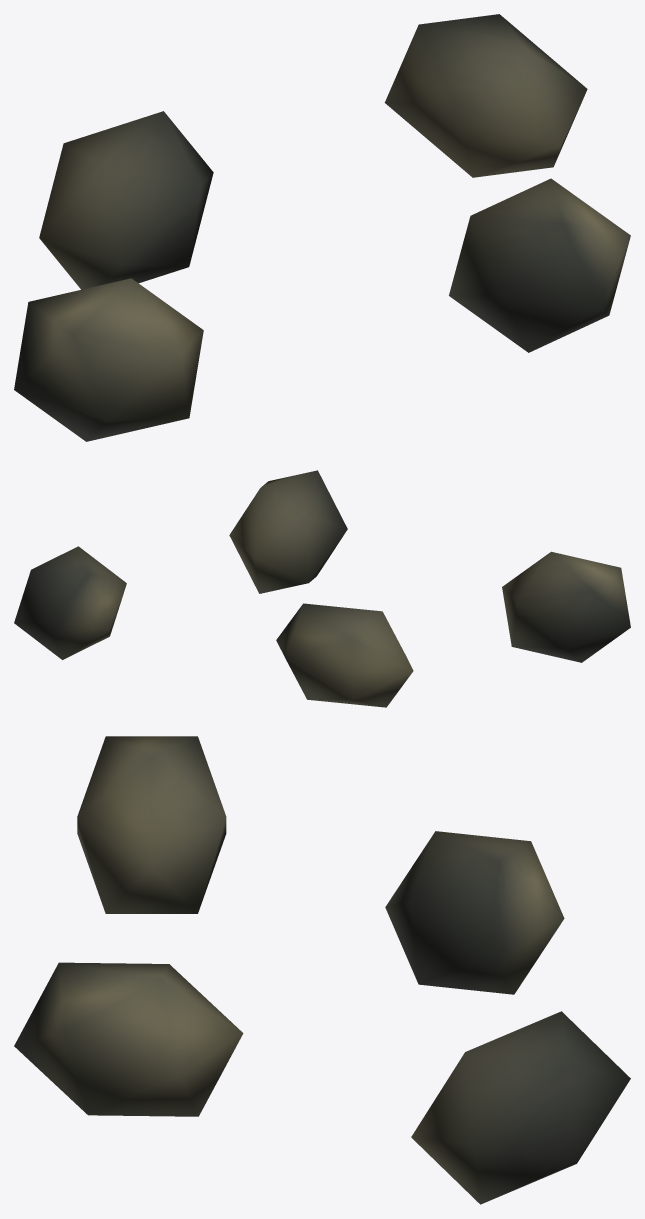
File: NP_Onion_Seed.fbx
The picture shows the model from 3 angles, top to bottom: view 1: azimuth 30°, elevation 25°; view 2: azimuth 150°, elevation 25°; view 3: azimuth 270°, elevation 25°; orthographic projection. The views are drawn at different scales.
Parts seen in each view (by area): view 1: NP_Onion_Seed; view 2: NP_Onion_Seed; view 3: NP_Onion_Seed.
Part boxes in pixels (x1=…): NP_Onion_Seed: x1=14, y1=14, x2=630, y2=441; NP_Onion_Seed: x1=14, y1=470, x2=630, y2=707; NP_Onion_Seed: x1=14, y1=736, x2=630, y2=1204.
Size of the model in its own units: 19.07 by 3.82 by 13.37.
